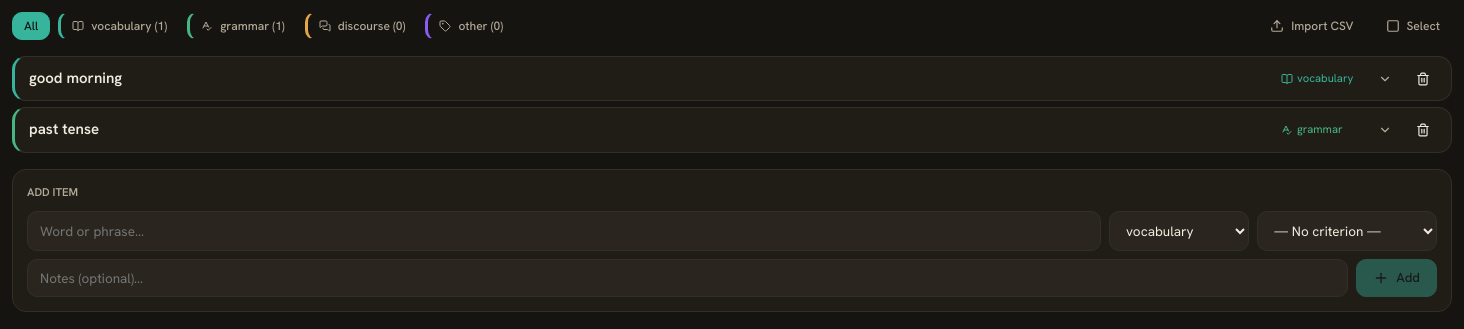
Test case: VocabularyListEditor › filters items by category
Expected: the text "good morning" is shown, [29, 68, 122, 88]
Expected: the text "past tense" is shown, [29, 119, 99, 139]
Click the button "grammar (1)" at x=242, y=26, box [187, 12, 297, 40]
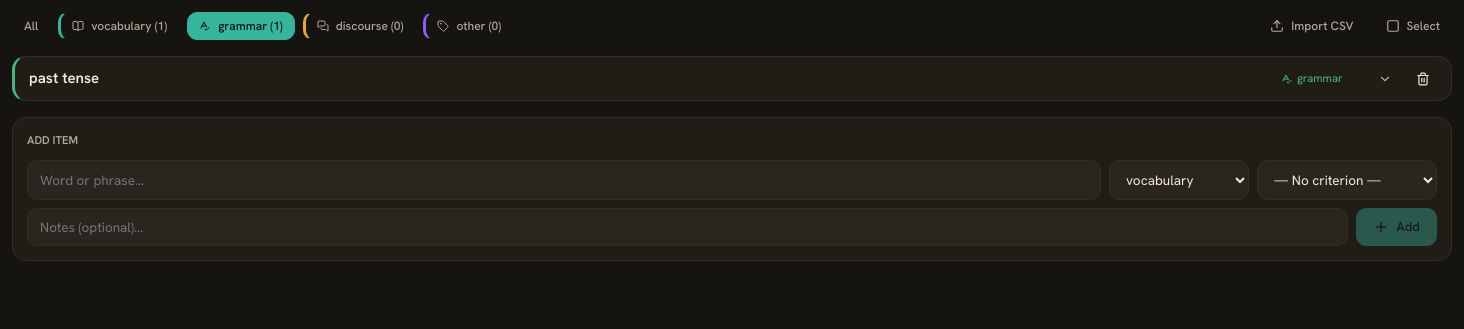
Expected: the text "past tense" is shown, [29, 68, 99, 88]
Result: the text "good morning" is gone
Click the button "All" at x=31, y=26, box [12, 12, 50, 40]
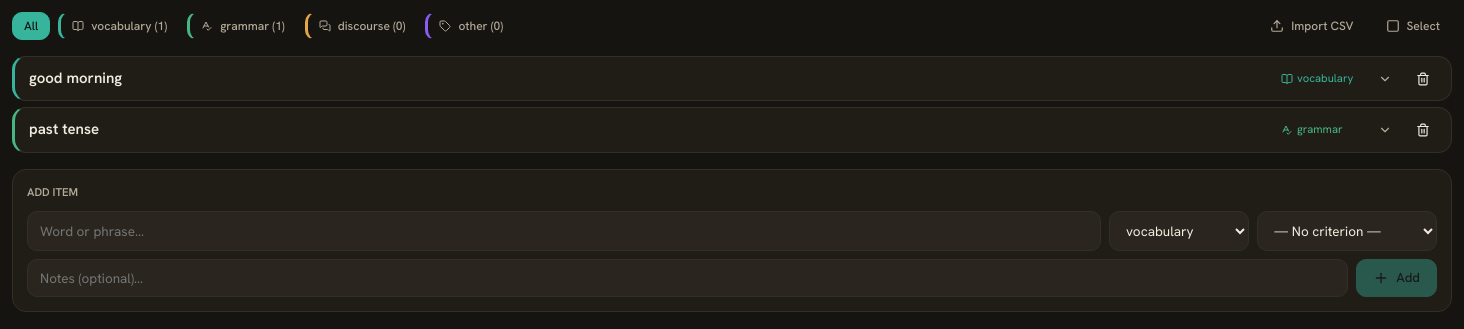
Result: the text "good morning" is shown at [29, 68, 122, 88]
